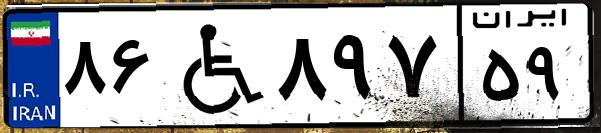5: (475, 38, 525, 113)
6: (110, 28, 158, 98)
7: (385, 28, 445, 110)
8: (270, 28, 330, 110), (57, 26, 110, 100)
9: (330, 28, 385, 110), (525, 38, 570, 115)
ژ (معلولین و جانبازان): (158, 12, 270, 120)
